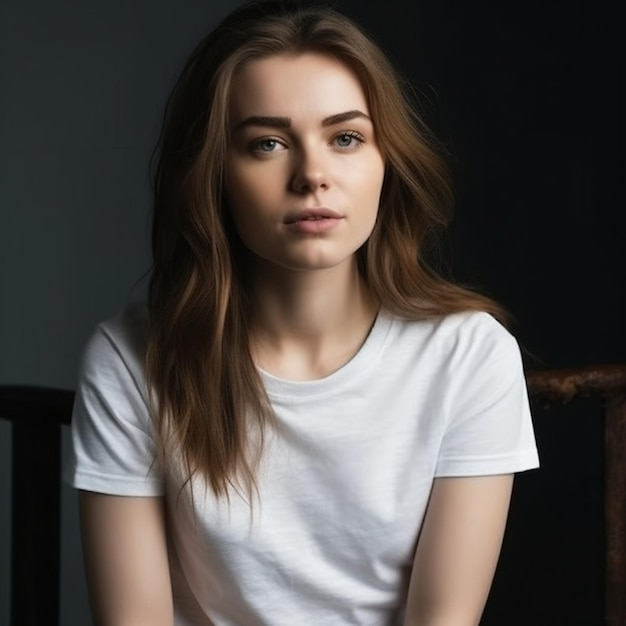teen: (157, 22, 428, 349)
